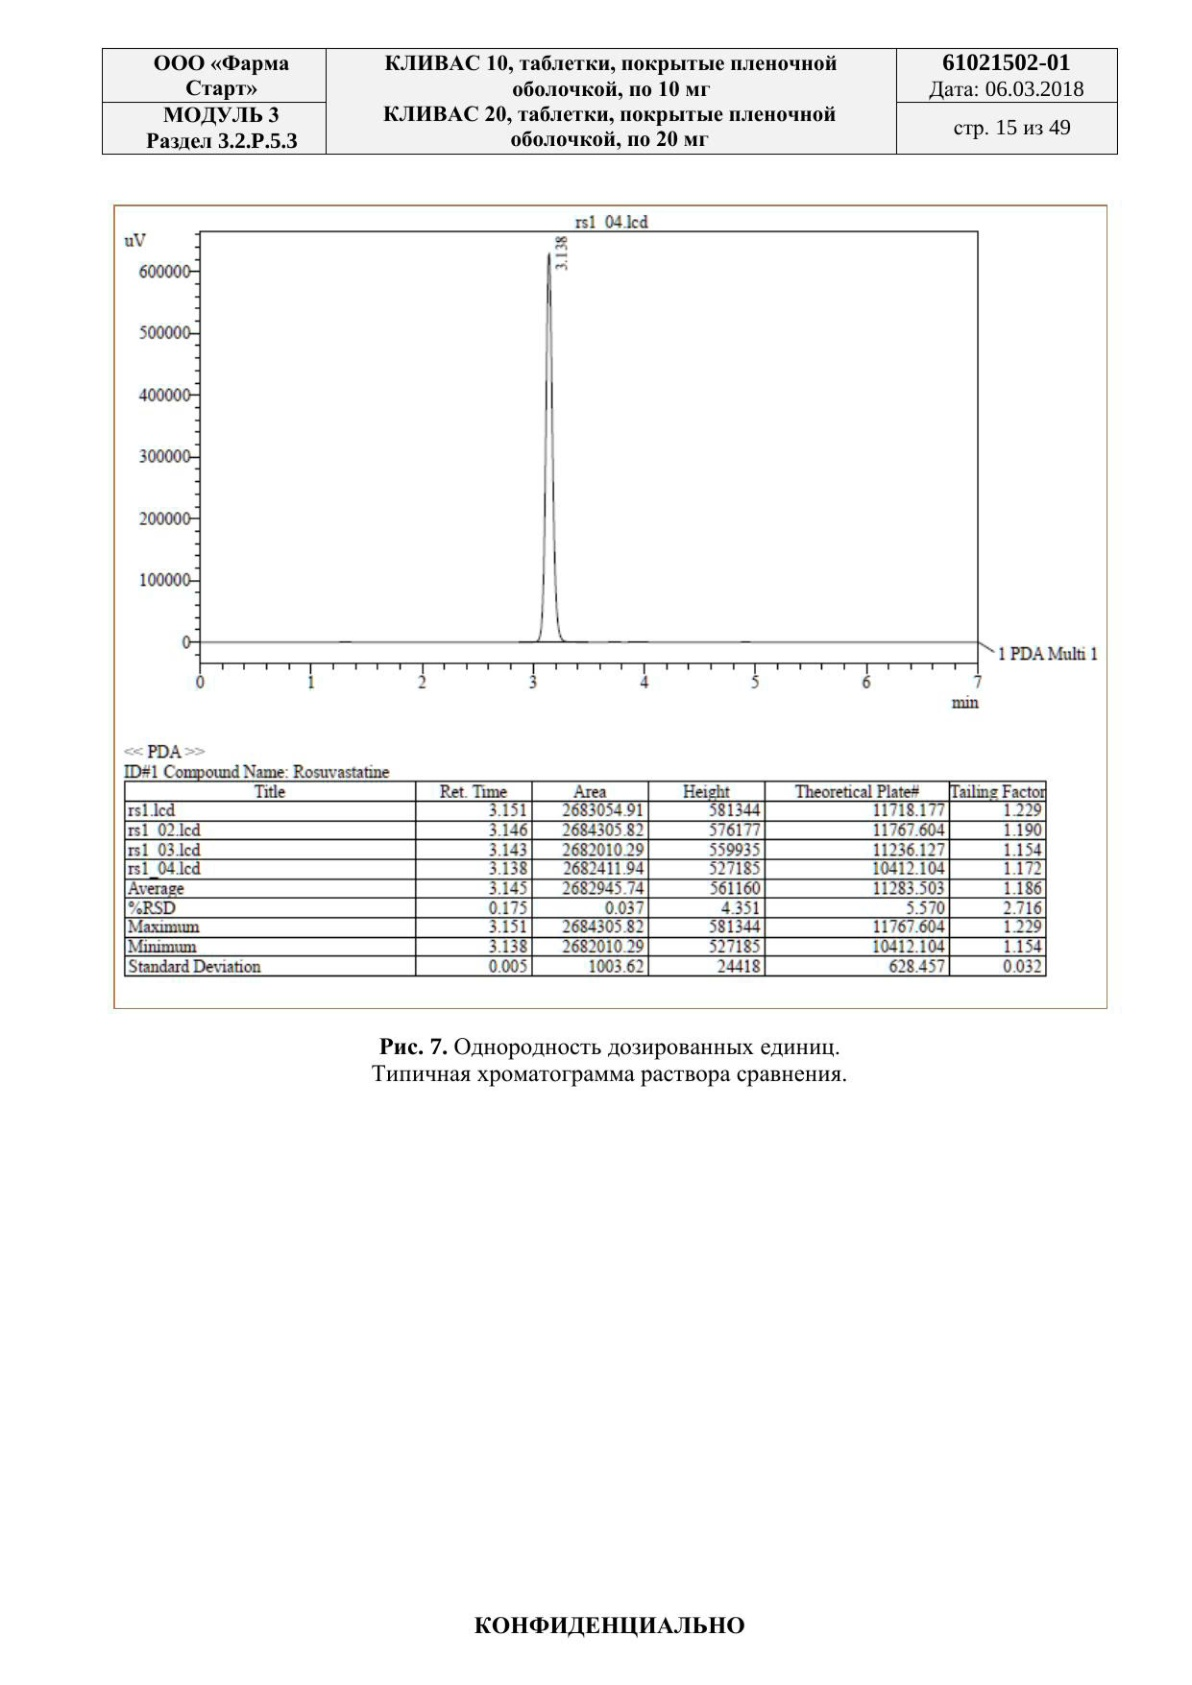full_lined: (123, 779, 1048, 979)
merged_cells: (101, 46, 1120, 156)
